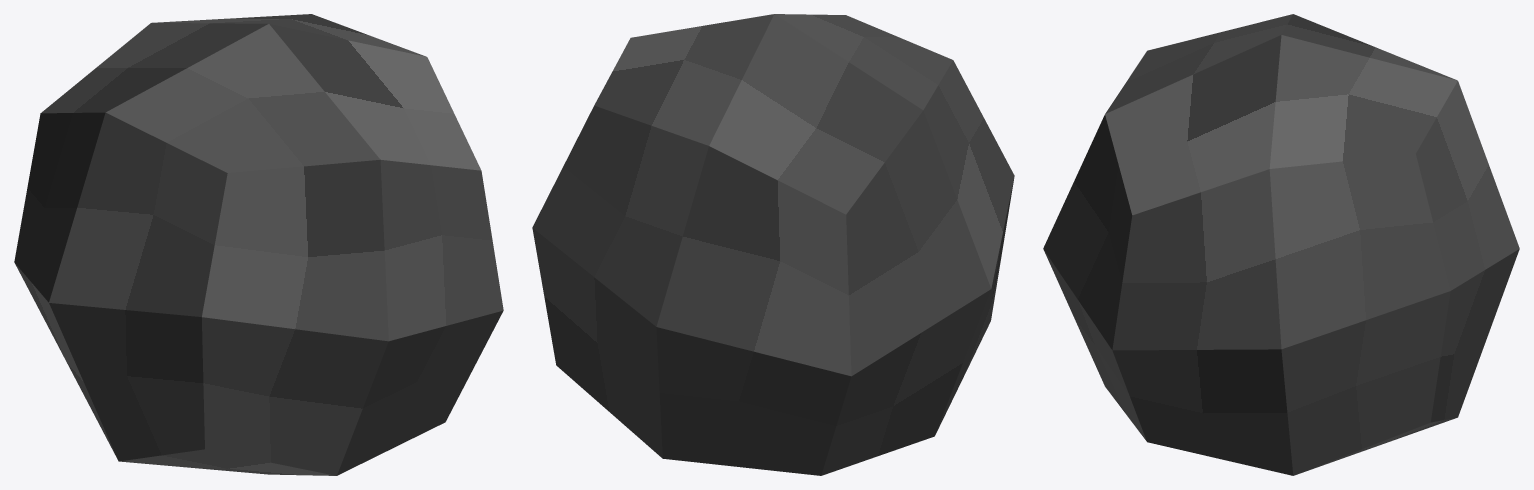
The model's file is Stone.glb.
3 views of the same model, side by side, from view 1: azimuth 30°, elevation 25°; view 2: azimuth 150°, elevation 25°; view 3: azimuth 270°, elevation 25° (orthographic). The views are drawn at different scales.
Parts seen in each view (by area): view 1: Cube; view 2: Cube; view 3: Cube.
Boxes of the visible parts, left/top/right/bottom form: Cube: left=14, top=14, right=503, bottom=475; Cube: left=532, top=14, right=1014, bottom=475; Cube: left=1043, top=14, right=1519, bottom=475.
Size of the model in its own units: 1.68 by 1.68 by 1.68.
1 material, 1 textured.
